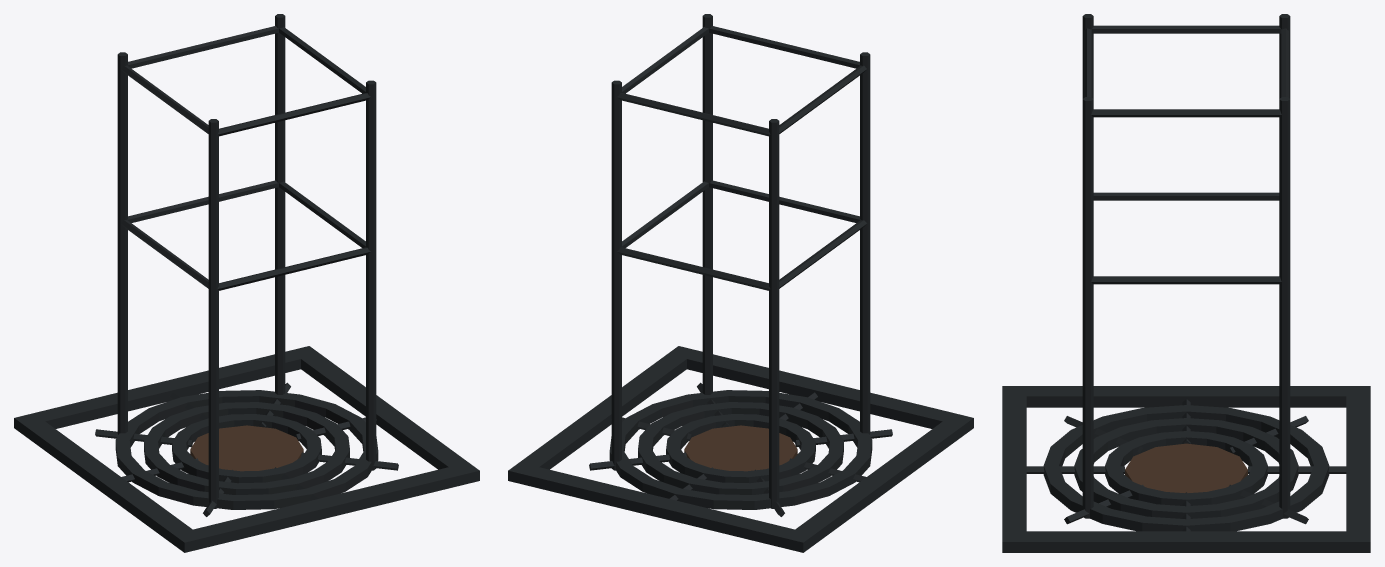
The model's file is tree-grate.glb.
3 renders of one model, left to right at view 1: azimuth 30°, elevation 25°; view 2: azimuth 150°, elevation 25°; view 3: azimuth 270°, elevation 25°, orthographic. The views are drawn at different scales.
Parts seen in each view (by area): view 1: tree-grate; view 2: tree-grate; view 3: tree-grate.
Boxes of the visible parts, left/top/right/bottom form: tree-grate: left=14, top=14, right=479, bottom=552; tree-grate: left=508, top=14, right=973, bottom=552; tree-grate: left=1002, top=14, right=1370, bottom=552.
Size of the model in its own units: 1.2 by 1.5 by 1.2.
